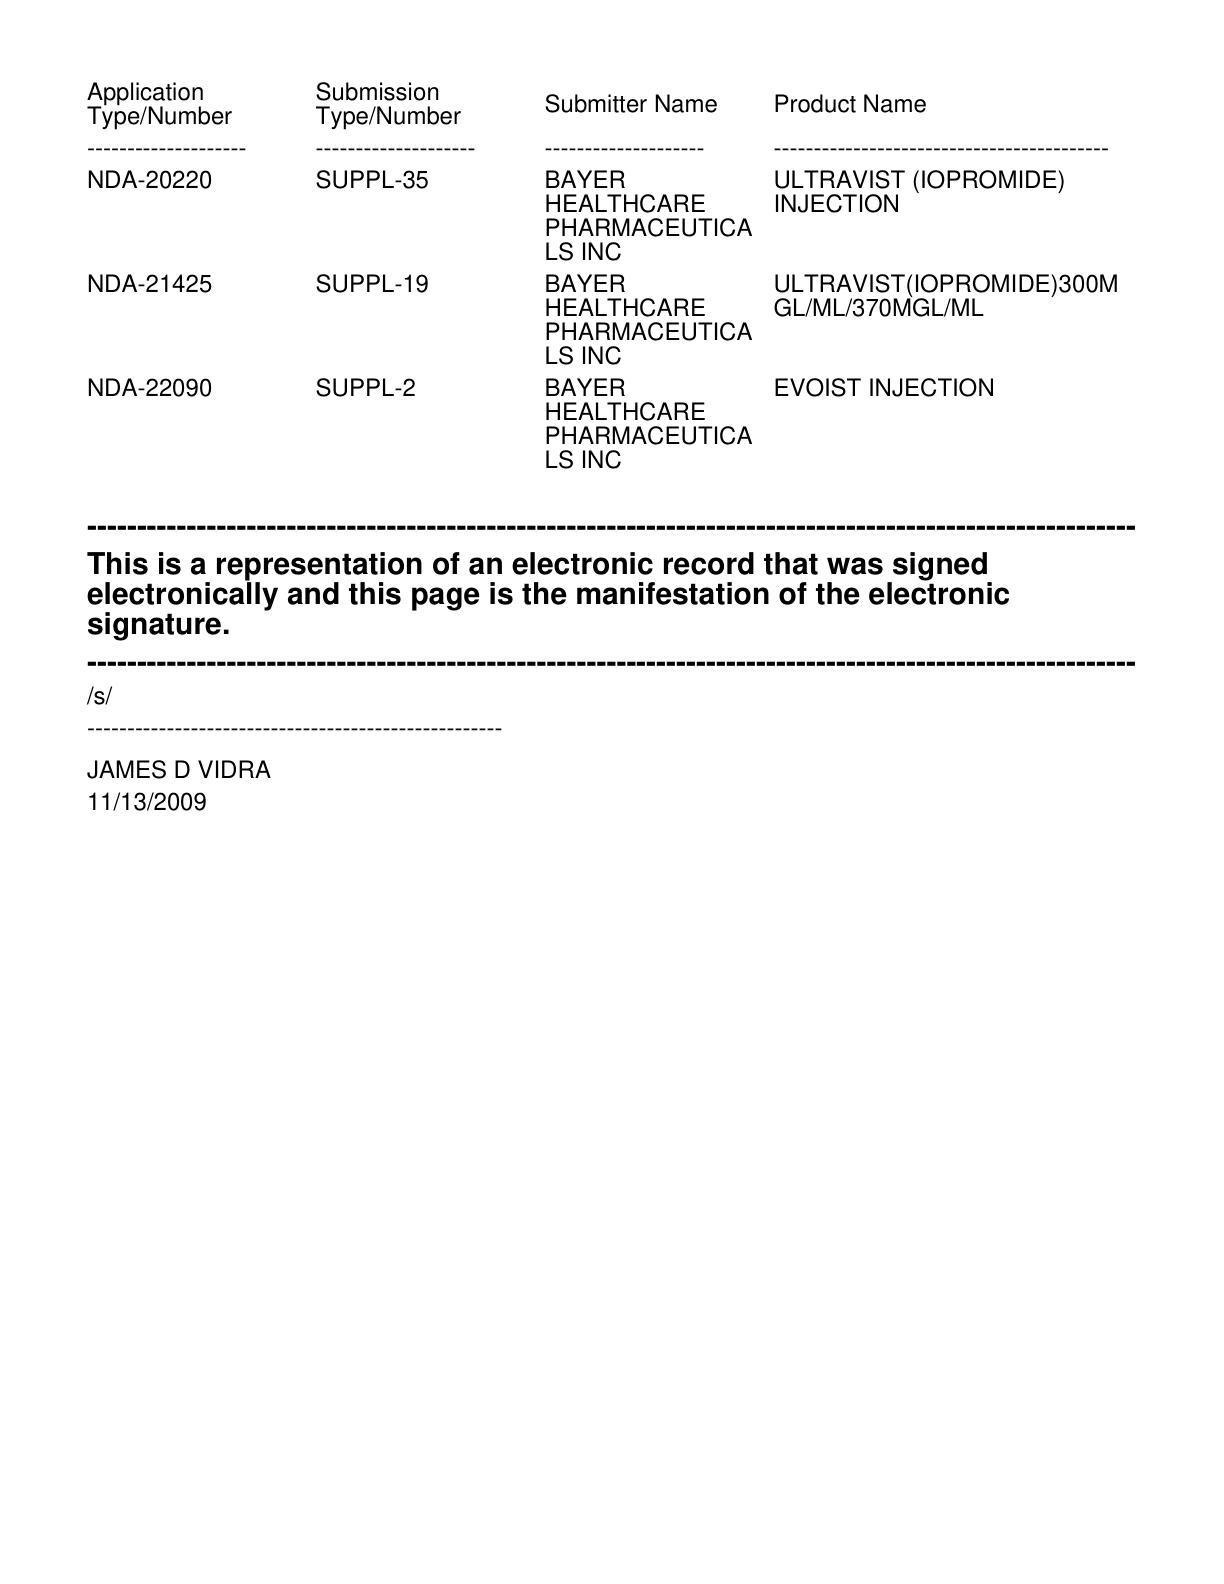nolines: (85, 80, 1121, 473)
